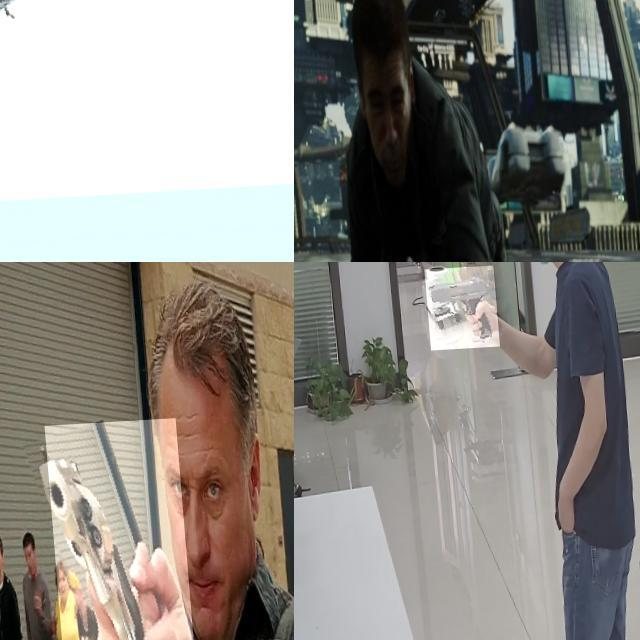gun-knife-thesis - v11 Yolov5 augmented: (0, 0, 294, 215), (41, 422, 197, 640), (422, 268, 497, 352)
